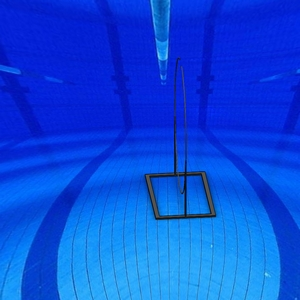circle: (142, 55, 219, 221)
